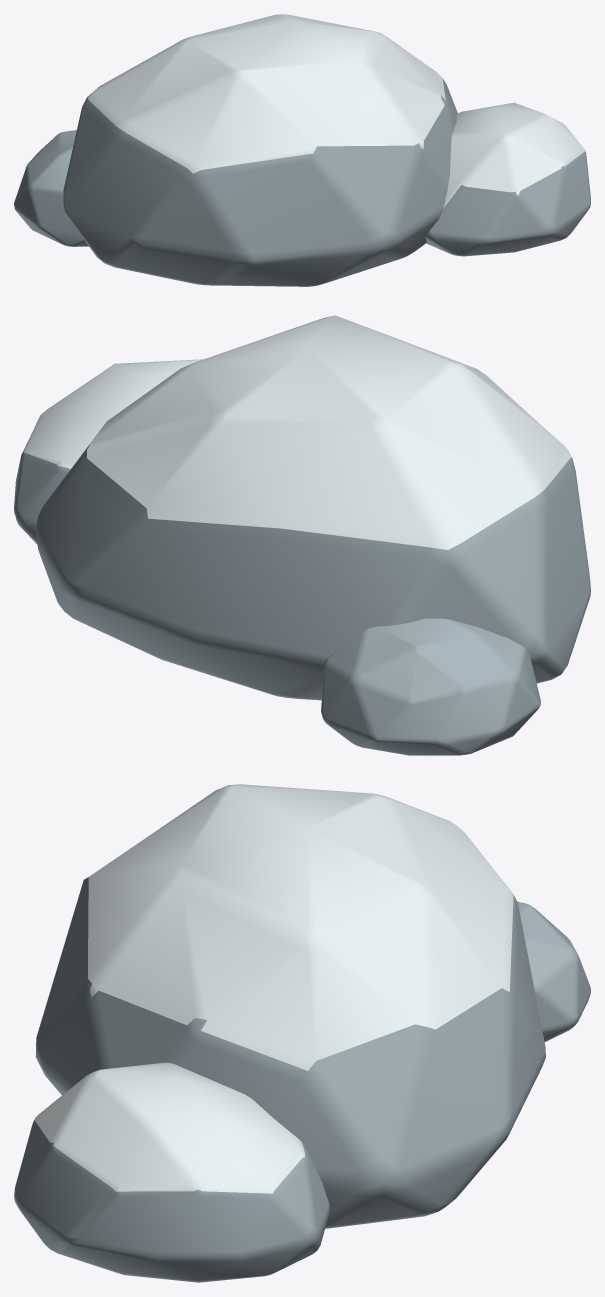
The model's file is rock_outcrop.glb.
3 views of the same model, one above another, from view 1: azimuth 30°, elevation 25°; view 2: azimuth 150°, elevation 25°; view 3: azimuth 270°, elevation 25° (orthographic). The views are drawn at different scales.
Visible parts, largest first — view 1: Outcrop, Outcrop.001, Surface_Rock; view 2: Outcrop, Surface_Rock, Outcrop.001; view 3: Outcrop, Outcrop.001, Surface_Rock.
Boxes of the visible parts, box(x1,y1,x2,y2) form: Outcrop: box(63, 14, 457, 286); Outcrop.001: box(425, 102, 590, 256); Surface_Rock: box(14, 130, 88, 246); Outcrop: box(36, 315, 590, 700); Surface_Rock: box(321, 618, 540, 755); Outcrop.001: box(14, 359, 203, 544); Outcrop: box(35, 784, 545, 1228); Outcrop.001: box(14, 1062, 329, 1282); Surface_Rock: box(517, 901, 590, 1041).
Bounding box in the file's own units: 5.39 × 2.27 × 4.07.
